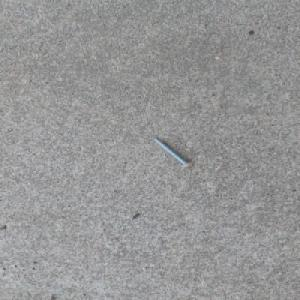Screw: (152, 137, 194, 168)
